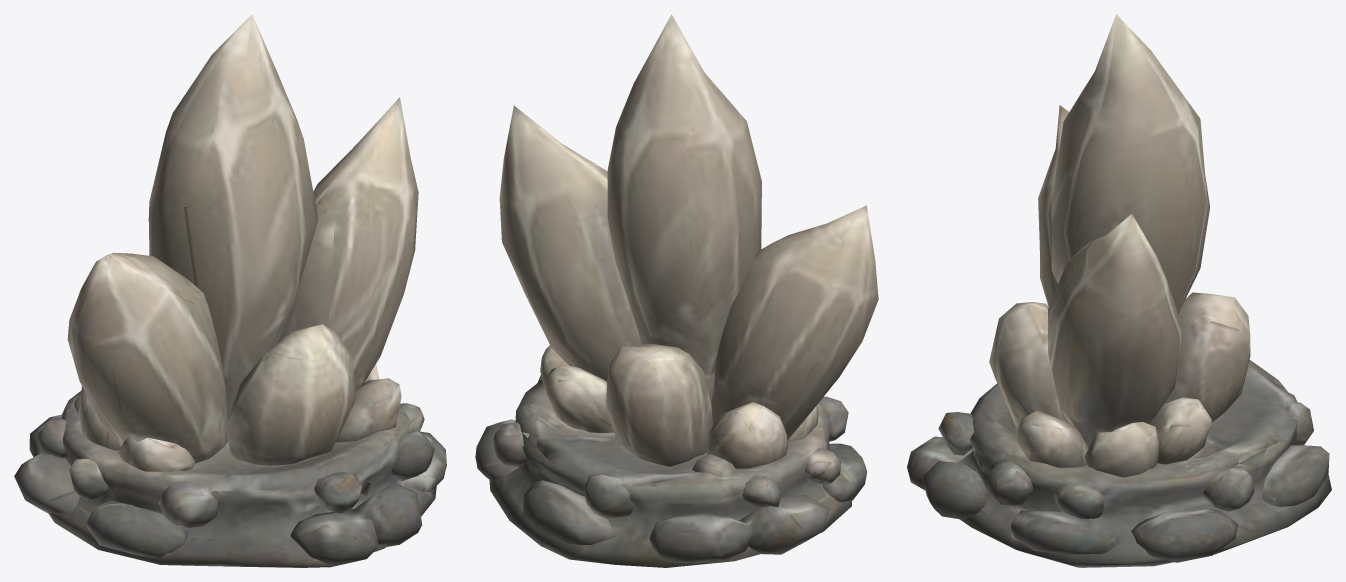
Rendered from mt_cristal_aflorando.glb.
3 views of the same model, side by side, from view 1: azimuth 30°, elevation 25°; view 2: azimuth 150°, elevation 25°; view 3: azimuth 270°, elevation 25° (orthographic). The views are drawn at different scales.
Visible parts, largest first — view 1: Mesh_0.002; view 2: Mesh_0.002; view 3: Mesh_0.002.
Boxes of the visible parts, left/top/right/bottom form: Mesh_0.002: left=14, top=14, right=446, bottom=567; Mesh_0.002: left=475, top=14, right=878, bottom=567; Mesh_0.002: left=907, top=14, right=1331, bottom=567.
Bounding box in the file's own units: 0.1023 × 0.1325 × 0.1061.
1 material, 1 textured.
